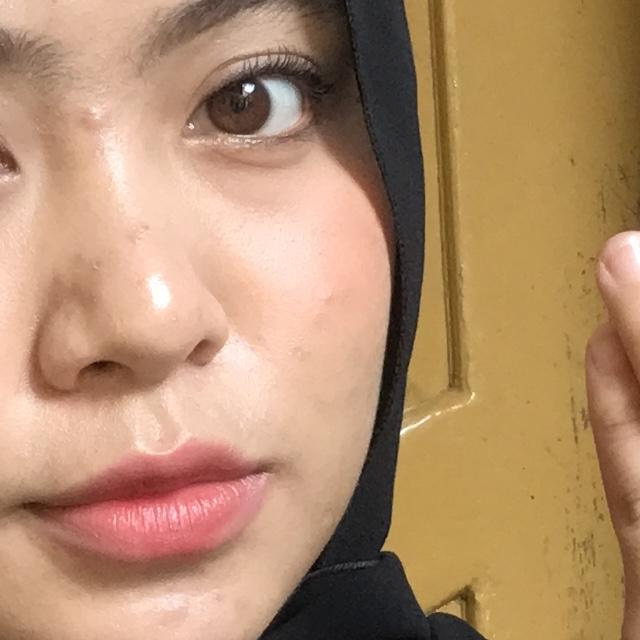kapan: (460, 126, 640, 640)
